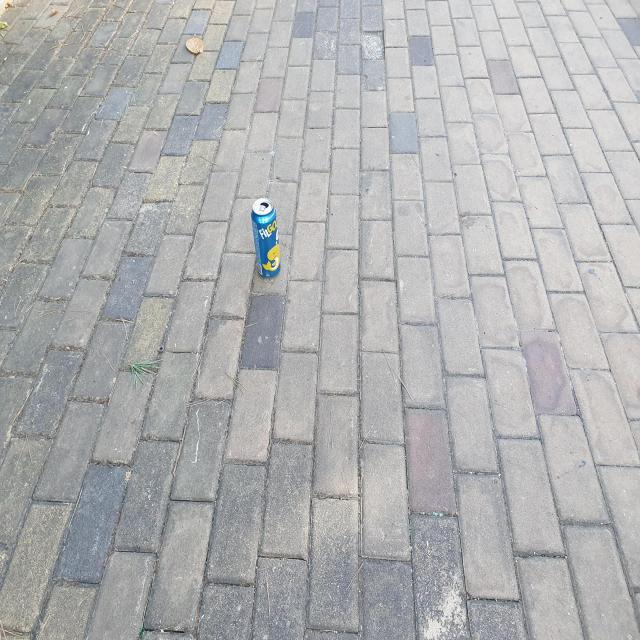can: (251, 197, 281, 279)
